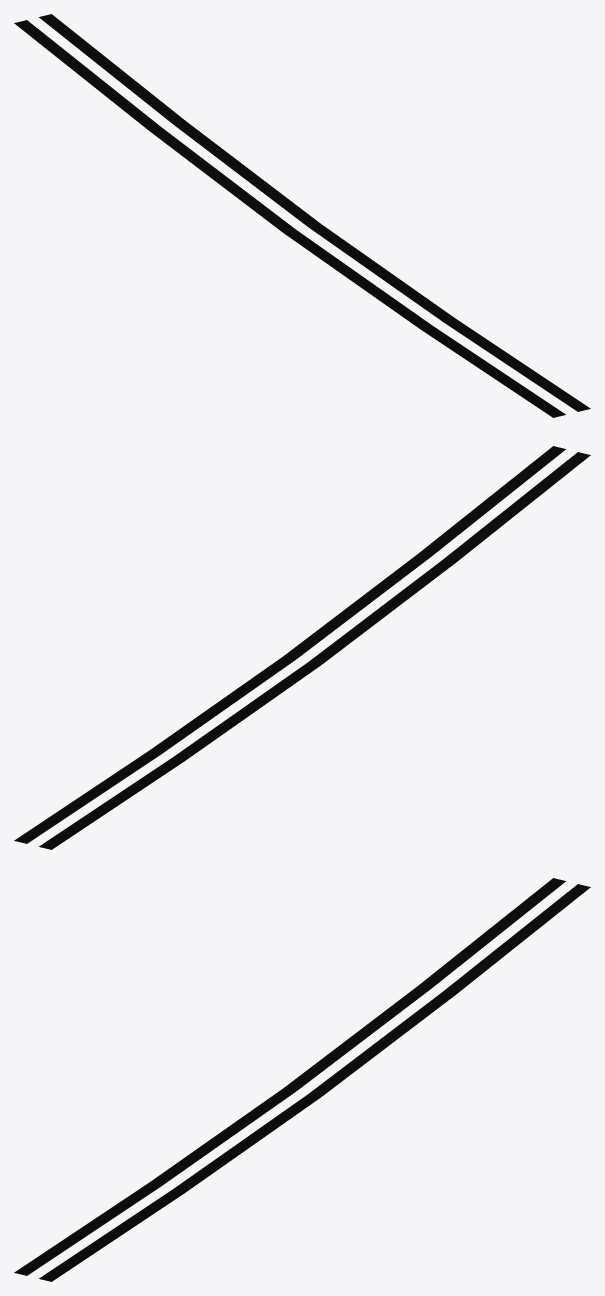
3 renders of one model, top to bottom at view 1: azimuth 30°, elevation 25°; view 2: azimuth 150°, elevation 25°; view 3: azimuth 330°, elevation 25°, orthographic.
Visible parts, largest first — view 1: world; view 2: world; view 3: world.
Part boxes in pixels (x1,y1,x2,y2): world: (14,14,590,417); world: (14,446,590,849); world: (14,878,590,1281).
Bounding box in the file's own units: 1.91 × 0.6151 × 47.45.
1 material, 1 textured.
